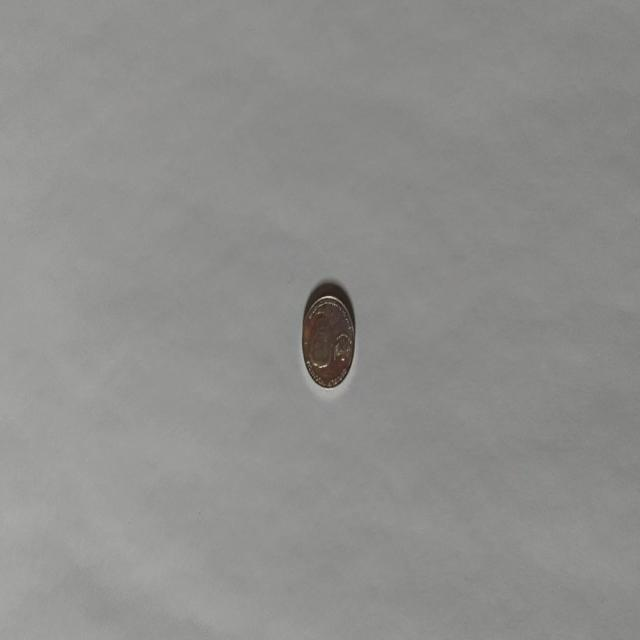seratus rupiah: (301, 292, 355, 389)
